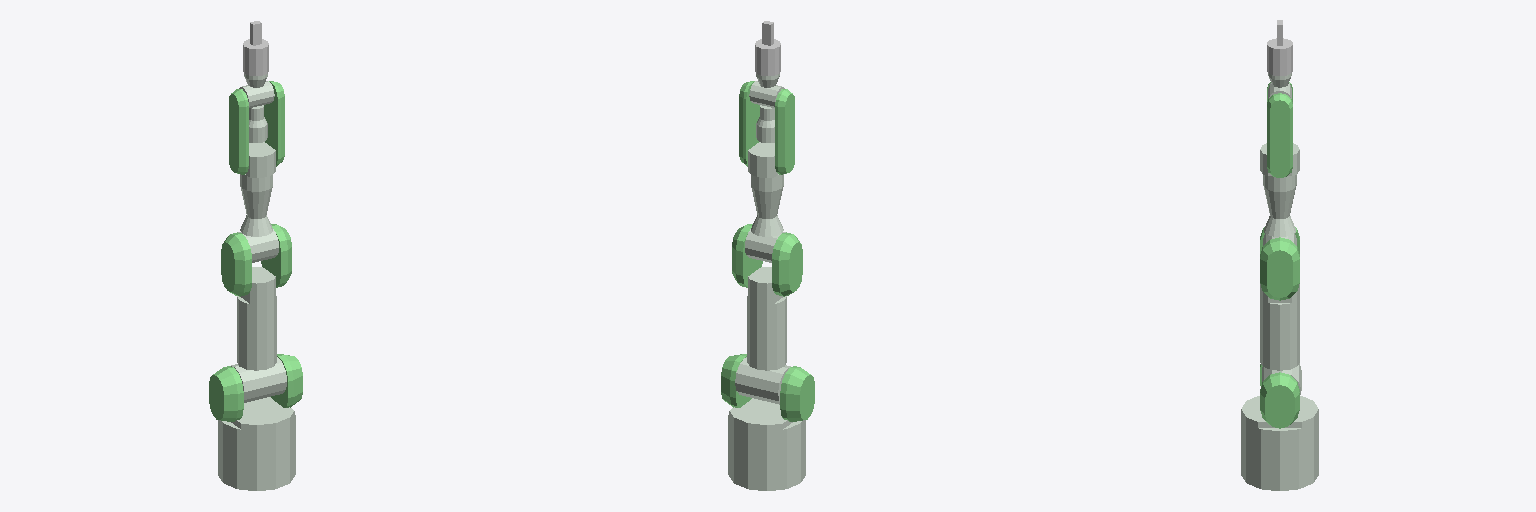
robot.urdf — HRP1:
<?xml version="1.0"?>
<robot name="HRP1"
       xmlns:xi="http://www.w3.org/2001/XInclude"
       >
  <link name="BASE_LINK">
    <visual>
      <origin xyz="0 0 0" rpy="0 -0 0"/>
      <geometry>
        <mesh filename="package://hrpsys_ros_bridge_tutorials/models/pa10_meshes/BASE_LINK_mesh.dae" scale="1 1 1" />
      </geometry>
    </visual>
    <collision>
      <origin xyz="0 0 0" rpy="0 -0 0"/>
      <geometry>
        <mesh filename="package://hrpsys_ros_bridge_tutorials/models/pa10_meshes/BASE_LINK_mesh.dae" scale="1 1 1" />
      </geometry>
    </collision>
    <inertial>
      <mass value="3.04" />
      <origin xyz="0 0 0.075" rpy="0 -0 0"/>
      <inertia ixx="1" ixy="0" ixz="0" iyy="1" iyz="0" izz="1"/>
    </inertial>
  </link>
  <gazebo reference="BASE_LINK">
    <mu1>0.9</mu1>
    <mu2>0.9</mu2>
  </gazebo>
  <link name="J1_LINK">
    <visual>
      <origin xyz="0 0 0.2" rpy="0 -0 0"/>
      <geometry>
        <mesh filename="package://hrpsys_ros_bridge_tutorials/models/pa10_meshes/J1_LINK_mesh.dae" scale="1 1 1" />
      </geometry>
    </visual>
    <collision>
      <origin xyz="0 0 0.2" rpy="0 -0 0"/>
      <geometry>
        <mesh filename="package://hrpsys_ros_bridge_tutorials/models/pa10_meshes/J1_LINK_mesh.dae" scale="1 1 1" />
      </geometry>
    </collision>
    <inertial>
      <mass value="9.78" />
      <origin xyz="0 0 0.14818" rpy="0 -0 0"/>
      <inertia ixx="1" ixy="0" ixz="0" iyy="1" iyz="0" izz="1"/>
    </inertial>
  </link>
  <gazebo reference="J1_LINK">
    <mu1>0.9</mu1>
    <mu2>0.9</mu2>
  </gazebo>
  <link name="J2_LINK">
    <visual>
      <origin xyz="0 0 0.115" rpy="0 -0 0"/>
      <geometry>
        <mesh filename="package://hrpsys_ros_bridge_tutorials/models/pa10_meshes/J2_LINK_mesh.dae" scale="1 1 1" />
      </geometry>
    </visual>
    <collision>
      <origin xyz="0 0 0.115" rpy="0 -0 0"/>
      <geometry>
        <mesh filename="package://hrpsys_ros_bridge_tutorials/models/pa10_meshes/J2_LINK_mesh.dae" scale="1 1 1" />
      </geometry>
    </collision>
    <inertial>
      <mass value="8.41" />
      <origin xyz="0 0 0.37675" rpy="0 -0 0"/>
      <inertia ixx="1" ixy="0" ixz="0" iyy="1" iyz="0" izz="1"/>
    </inertial>
  </link>
  <gazebo reference="J2_LINK">
    <mu1>0.9</mu1>
    <mu2>0.9</mu2>
  </gazebo>
  <link name="J3_LINK">
    <visual>
      <origin xyz="0 0 0.28" rpy="0 -0 0"/>
      <geometry>
        <mesh filename="package://hrpsys_ros_bridge_tutorials/models/pa10_meshes/J3_LINK_mesh.dae" scale="1 1 1" />
      </geometry>
    </visual>
    <collision>
      <origin xyz="0 0 0.28" rpy="0 -0 0"/>
      <geometry>
        <mesh filename="package://hrpsys_ros_bridge_tutorials/models/pa10_meshes/J3_LINK_mesh.dae" scale="1 1 1" />
      </geometry>
    </collision>
    <inertial>
      <mass value="3.52" />
      <origin xyz="0 0 0.672141" rpy="0 -0 0"/>
      <inertia ixx="1" ixy="0" ixz="0" iyy="1" iyz="0" izz="1"/>
    </inertial>
  </link>
  <gazebo reference="J3_LINK">
    <mu1>0.9</mu1>
    <mu2>0.9</mu2>
  </gazebo>
  <link name="J4_LINK">
    <visual>
      <origin xyz="0 0 0.17" rpy="0 -0 0"/>
      <geometry>
        <mesh filename="package://hrpsys_ros_bridge_tutorials/models/pa10_meshes/J4_LINK_mesh.dae" scale="1 1 1" />
      </geometry>
    </visual>
    <collision>
      <origin xyz="0 0 0.17" rpy="0 -0 0"/>
      <geometry>
        <mesh filename="package://hrpsys_ros_bridge_tutorials/models/pa10_meshes/J4_LINK_mesh.dae" scale="1 1 1" />
      </geometry>
    </collision>
    <inertial>
      <mass value="4.31" />
      <origin xyz="0 0 0.80959" rpy="0 -0 0"/>
      <inertia ixx="1" ixy="0" ixz="0" iyy="1" iyz="0" izz="1"/>
    </inertial>
  </link>
  <gazebo reference="J4_LINK">
    <mu1>0.9</mu1>
    <mu2>0.9</mu2>
  </gazebo>
  <link name="J5_LINK">
    <visual>
      <origin xyz="0 0 0.25" rpy="0 -0 0"/>
      <geometry>
        <mesh filename="package://hrpsys_ros_bridge_tutorials/models/pa10_meshes/J5_LINK_mesh.dae" scale="1 1 1" />
      </geometry>
    </visual>
    <collision>
      <origin xyz="0 0 0.25" rpy="0 -0 0"/>
      <geometry>
        <mesh filename="package://hrpsys_ros_bridge_tutorials/models/pa10_meshes/J5_LINK_mesh.dae" scale="1 1 1" />
      </geometry>
    </collision>
    <inertial>
      <mass value="3.45" />
      <origin xyz="0 0 1.09875" rpy="0 -0 0"/>
      <inertia ixx="1" ixy="0" ixz="0" iyy="1" iyz="0" izz="1"/>
    </inertial>
  </link>
  <gazebo reference="J5_LINK">
    <mu1>0.9</mu1>
    <mu2>0.9</mu2>
  </gazebo>
  <link name="J6_LINK">
    <visual>
      <origin xyz="-0.0025 0 0.25" rpy="0 -0 0"/>
      <geometry>
        <mesh filename="package://hrpsys_ros_bridge_tutorials/models/pa10_meshes/J6_LINK_mesh.dae" scale="1 1 1" />
      </geometry>
    </visual>
    <collision>
      <origin xyz="-0.0025 0 0.25" rpy="0 -0 0"/>
      <geometry>
        <mesh filename="package://hrpsys_ros_bridge_tutorials/models/pa10_meshes/J6_LINK_mesh.dae" scale="1 1 1" />
      </geometry>
    </collision>
    <inertial>
      <mass value="1.46" />
      <origin xyz="0 0 1.2335" rpy="0 -0 0"/>
      <inertia ixx="1" ixy="0" ixz="0" iyy="1" iyz="0" izz="1"/>
    </inertial>
  </link>
  <gazebo reference="J6_LINK">
    <mu1>0.9</mu1>
    <mu2>0.9</mu2>
  </gazebo>
  <link name="J7_LINK">
    <visual>
      <origin xyz="0 0 0.08" rpy="0 -0 0"/>
      <geometry>
        <mesh filename="package://hrpsys_ros_bridge_tutorials/models/pa10_meshes/J7_LINK_mesh.dae" scale="1 1 1" />
      </geometry>
    </visual>
    <collision>
      <origin xyz="0 0 0.08" rpy="0 -0 0"/>
      <geometry>
        <mesh filename="package://hrpsys_ros_bridge_tutorials/models/pa10_meshes/J7_LINK_mesh.dae" scale="1 1 1" />
      </geometry>
    </collision>
    <inertial>
      <mass value="0.24" />
      <origin xyz="0 0 1.3145" rpy="0 -0 0"/>
      <inertia ixx="1" ixy="0" ixz="0" iyy="1" iyz="0" izz="1"/>
    </inertial>
  </link>
  <gazebo reference="J7_LINK">
    <mu1>0.9</mu1>
    <mu2>0.9</mu2>
  </gazebo>
  <link name="HAND_L_LINK">
    <visual>
      <origin xyz="0 0 0" rpy="0 -0 0"/>
      <geometry>
        <mesh filename="package://hrpsys_ros_bridge_tutorials/models/pa10_meshes/HAND_L_LINK_mesh.dae" scale="1 1 1" />
      </geometry>
    </visual>
    <collision>
      <origin xyz="0 0 0" rpy="0 -0 0"/>
      <geometry>
        <mesh filename="package://hrpsys_ros_bridge_tutorials/models/pa10_meshes/HAND_L_LINK_mesh.dae" scale="1 1 1" />
      </geometry>
    </collision>
    <inertial>
      <mass value="0.5" />
      <origin xyz="0 0 0" rpy="0 -0 0"/>
      <inertia ixx="1" ixy="0" ixz="0" iyy="1" iyz="0" izz="1"/>
    </inertial>
  </link>
  <gazebo reference="HAND_L_LINK">
    <mu1>0.9</mu1>
    <mu2>0.9</mu2>
  </gazebo>
  <link name="HAND_R_LINK">
    <visual>
      <origin xyz="0 0 0" rpy="0 -0 0"/>
      <geometry>
        <mesh filename="package://hrpsys_ros_bridge_tutorials/models/pa10_meshes/HAND_R_LINK_mesh.dae" scale="1 1 1" />
      </geometry>
    </visual>
    <collision>
      <origin xyz="0 0 0" rpy="0 -0 0"/>
      <geometry>
        <mesh filename="package://hrpsys_ros_bridge_tutorials/models/pa10_meshes/HAND_R_LINK_mesh.dae" scale="1 1 1" />
      </geometry>
    </collision>
    <inertial>
      <mass value="0.5" />
      <origin xyz="0 0 0" rpy="0 -0 0"/>
      <inertia ixx="1" ixy="0" ixz="0" iyy="1" iyz="0" izz="1"/>
    </inertial>
  </link>
  <gazebo reference="HAND_R_LINK">
    <mu1>0.9</mu1>
    <mu2>0.9</mu2>
  </gazebo>
  <joint name="J1" type="revolute">
    <parent link="BASE_LINK"/>
    <child  link="J1_LINK"/>
    <origin xyz="0 0 0.2" rpy="0 -0 0 "/>
    <axis   xyz="0 0 1"/>
    <limit lower="-3.08923" upper="3.08923" effort="100" velocity="0.5" />
    <dynamics damping="0.2" friction="0" />
  </joint>
  <transmission type="pr2_mechanism_model/SimpleTransmission" name="J1_trans" >
    <actuator name="J1_motor" />
    <joint name="J1" />
    <mechanicalReduction>1</mechanicalReduction>
  </transmission>
  <gazebo reference="J1">
    <cfmDamping>0.4</cfmDamping>
  </gazebo>
  <joint name="J2" type="revolute">
    <parent link="J1_LINK"/>
    <child  link="J2_LINK"/>
    <origin xyz="0 0 0.115" rpy="0 -0 0 "/>
    <axis   xyz="1 0 0"/>
    <limit lower="-1.64061" upper="1.64061" effort="100" velocity="0.5" />
    <dynamics damping="0.2" friction="0" />
  </joint>
  <transmission type="pr2_mechanism_model/SimpleTransmission" name="J2_trans" >
    <actuator name="J2_motor" />
    <joint name="J2" />
    <mechanicalReduction>1</mechanicalReduction>
  </transmission>
  <gazebo reference="J2">
    <cfmDamping>0.4</cfmDamping>
  </gazebo>
  <joint name="J3" type="revolute">
    <parent link="J2_LINK"/>
    <child  link="J3_LINK"/>
    <origin xyz="0 0 0.28" rpy="0 -0 0 "/>
    <axis   xyz="0 0 1"/>
    <limit lower="-3.03687" upper="3.03687" effort="100" velocity="0.5" />
    <dynamics damping="0.2" friction="0" />
  </joint>
  <transmission type="pr2_mechanism_model/SimpleTransmission" name="J3_trans" >
    <actuator name="J3_motor" />
    <joint name="J3" />
    <mechanicalReduction>1</mechanicalReduction>
  </transmission>
  <gazebo reference="J3">
    <cfmDamping>0.4</cfmDamping>
  </gazebo>
  <joint name="J4" type="revolute">
    <parent link="J3_LINK"/>
    <child  link="J4_LINK"/>
    <origin xyz="0 0 0.17" rpy="0 -0 0 "/>
    <axis   xyz="1 0 0"/>
    <limit lower="-2.3911" upper="2.3911" effort="100" velocity="0.5" />
    <dynamics damping="0.2" friction="0" />
  </joint>
  <transmission type="pr2_mechanism_model/SimpleTransmission" name="J4_trans" >
    <actuator name="J4_motor" />
    <joint name="J4" />
    <mechanicalReduction>1</mechanicalReduction>
  </transmission>
  <gazebo reference="J4">
    <cfmDamping>0.4</cfmDamping>
  </gazebo>
  <joint name="J5" type="revolute">
    <parent link="J4_LINK"/>
    <child  link="J5_LINK"/>
    <origin xyz="0 0 0.25" rpy="0 -0 0 "/>
    <axis   xyz="0 0 1"/>
    <limit lower="-4.45059" upper="4.45059" effort="100" velocity="0.5" />
    <dynamics damping="0.2" friction="0" />
  </joint>
  <transmission type="pr2_mechanism_model/SimpleTransmission" name="J5_trans" >
    <actuator name="J5_motor" />
    <joint name="J5" />
    <mechanicalReduction>1</mechanicalReduction>
  </transmission>
  <gazebo reference="J5">
    <cfmDamping>0.4</cfmDamping>
  </gazebo>
  <joint name="J6" type="revolute">
    <parent link="J5_LINK"/>
    <child  link="J6_LINK"/>
    <origin xyz="-0.0025 0 0.25" rpy="0 -0 0 "/>
    <axis   xyz="1 0 0"/>
    <limit lower="-2.87979" upper="2.87979" effort="100" velocity="0.5" />
    <dynamics damping="0.2" friction="0" />
  </joint>
  <transmission type="pr2_mechanism_model/SimpleTransmission" name="J6_trans" >
    <actuator name="J6_motor" />
    <joint name="J6" />
    <mechanicalReduction>1</mechanicalReduction>
  </transmission>
  <gazebo reference="J6">
    <cfmDamping>0.4</cfmDamping>
  </gazebo>
  <joint name="J7" type="revolute">
    <parent link="J6_LINK"/>
    <child  link="J7_LINK"/>
    <origin xyz="0 0 0.08" rpy="0 -0 0 "/>
    <axis   xyz="0 0 1"/>
    <limit lower="-4.45059" upper="4.45059" effort="100" velocity="0.5" />
    <dynamics damping="0.2" friction="0" />
  </joint>
  <transmission type="pr2_mechanism_model/SimpleTransmission" name="J7_trans" >
    <actuator name="J7_motor" />
    <joint name="J7" />
    <mechanicalReduction>1</mechanicalReduction>
  </transmission>
  <gazebo reference="J7">
    <cfmDamping>0.4</cfmDamping>
  </gazebo>
  <joint name="HAND_L" type="prismatic">
    <parent link="J7_LINK"/>
    <child  link="HAND_L_LINK"/>
    <origin xyz="0 0 0" rpy="0 -0 0 "/>
    <axis   xyz="0 1 0"/>
    <limit lower="-100000" upper="100000" effort="100" velocity="0.01" />
    <dynamics damping="0.2" friction="0" />
  </joint>
  <transmission type="pr2_mechanism_model/SimpleTransmission" name="HAND_L_trans" >
    <actuator name="HAND_L_motor" />
    <joint name="HAND_L" />
    <mechanicalReduction>1</mechanicalReduction>
  </transmission>
  <gazebo reference="HAND_L">
    <cfmDamping>0.4</cfmDamping>
  </gazebo>
  <joint name="HAND_R" type="prismatic">
    <parent link="J7_LINK"/>
    <child  link="HAND_R_LINK"/>
    <origin xyz="0 0 0" rpy="0 -0 0 "/>
    <axis   xyz="0 1 0"/>
    <limit lower="-100000" upper="100000" effort="100" velocity="0.01" />
    <dynamics damping="0.2" friction="0" />
  </joint>
  <transmission type="pr2_mechanism_model/SimpleTransmission" name="HAND_R_trans" >
    <actuator name="HAND_R_motor" />
    <joint name="HAND_R" />
    <mechanicalReduction>1</mechanicalReduction>
  </transmission>
  <gazebo reference="HAND_R">
    <cfmDamping>0.4</cfmDamping>
  </gazebo>
</robot>

--- Render facts (derived) ---
3 views of the same robot in one strip: view 1: azimuth 30°, elevation 25°; view 2: azimuth 150°, elevation 25°; view 3: azimuth 270°, elevation 25° (orthographic).
Robot: HRP1 — 10 links, 9 joints (7 revolute, 2 prismatic); root link BASE_LINK; default pose: all joints at 0.
Visible links, largest first — view 1: BASE_LINK, J2_LINK, J1_LINK, J5_LINK, J3_LINK, J4_LINK, J6_LINK, J7_LINK; view 2: BASE_LINK, J2_LINK, J1_LINK, J5_LINK, J3_LINK, J4_LINK, J6_LINK, J7_LINK; view 3: BASE_LINK, J1_LINK, J2_LINK, J5_LINK, J3_LINK, J4_LINK, J7_LINK.
Link boxes in pixels (<box>): BASE_LINK: <box>218,415,295,490</box>; J2_LINK: <box>231,296,286,402</box>; J1_LINK: <box>209,354,302,430</box>; J5_LINK: <box>229,81,284,177</box>; J3_LINK: <box>221,224,291,304</box>; J4_LINK: <box>238,174,278,262</box>; J6_LINK: <box>239,74,274,142</box>; J7_LINK: <box>243,39,268,75</box>; BASE_LINK: <box>728,415,805,490</box>; J2_LINK: <box>735,296,790,404</box>; J1_LINK: <box>721,354,814,430</box>; J5_LINK: <box>739,81,794,177</box>; J3_LINK: <box>732,224,802,304</box>; J4_LINK: <box>745,174,785,262</box>; J6_LINK: <box>749,74,784,142</box>; J7_LINK: <box>755,39,780,75</box>; BASE_LINK: <box>1241,415,1318,490</box>; J1_LINK: <box>1241,364,1318,428</box>; J2_LINK: <box>1260,297,1301,394</box>; J5_LINK: <box>1260,82,1299,177</box>; J3_LINK: <box>1260,227,1299,302</box>; J4_LINK: <box>1263,175,1296,245</box>; J7_LINK: <box>1267,38,1292,75</box>.
Bounding box of the posed robot: 0.275 × 0.234 × 1.5 m (x, y, z).
Meshes: 10 distinct files referenced, 10 mesh visuals loaded (10 Collada DAE).